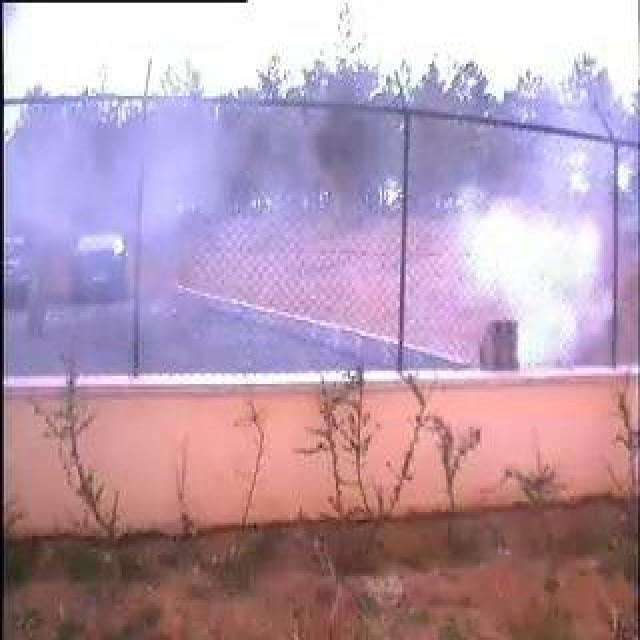Smoke: (37, 115, 597, 365)
